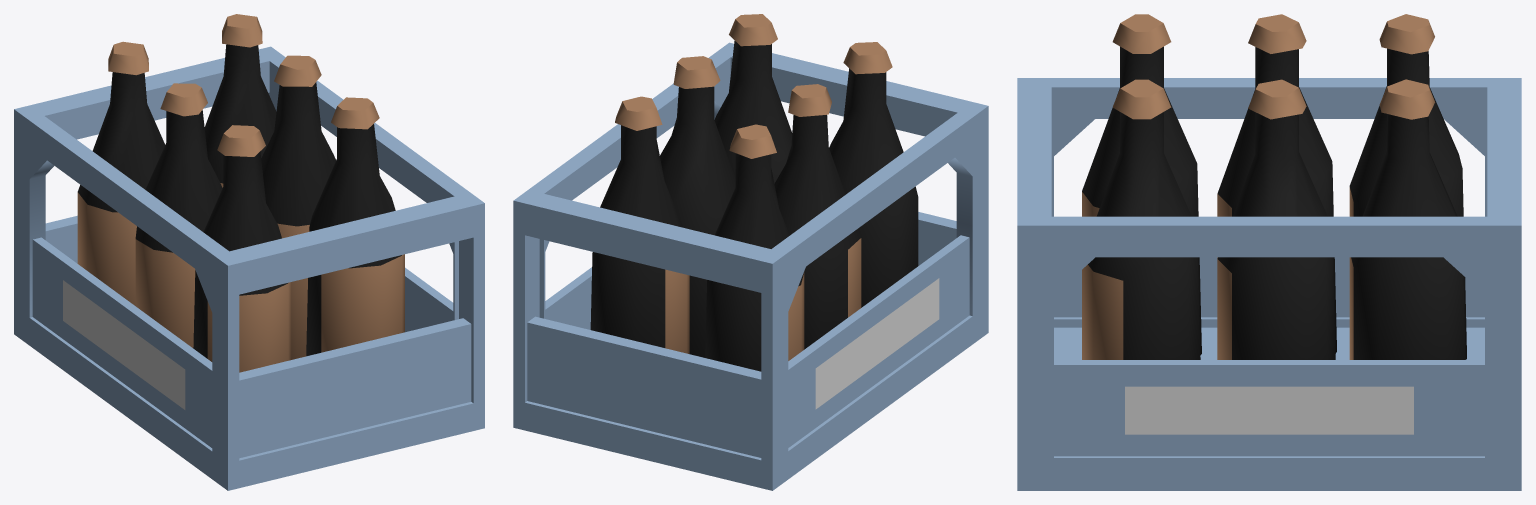
File: cc0-bottles-lod1.glb
3 renders of one model, left to right at view 1: azimuth 30°, elevation 25°; view 2: azimuth 150°, elevation 25°; view 3: azimuth 270°, elevation 25°, orthographic. The views are drawn at different scales.
Parts seen in each view (by area): view 1: part_0; view 2: part_0; view 3: part_0.
Part boxes in pixels (box(x1,y1,x2,y2)): part_0: box(14, 14, 484, 490); part_0: box(513, 14, 988, 490); part_0: box(1017, 14, 1521, 490).
Size of the model in its own units: 0.9032 by 1.02 by 1.3.
Materials: 1 (1 with a texture image).
